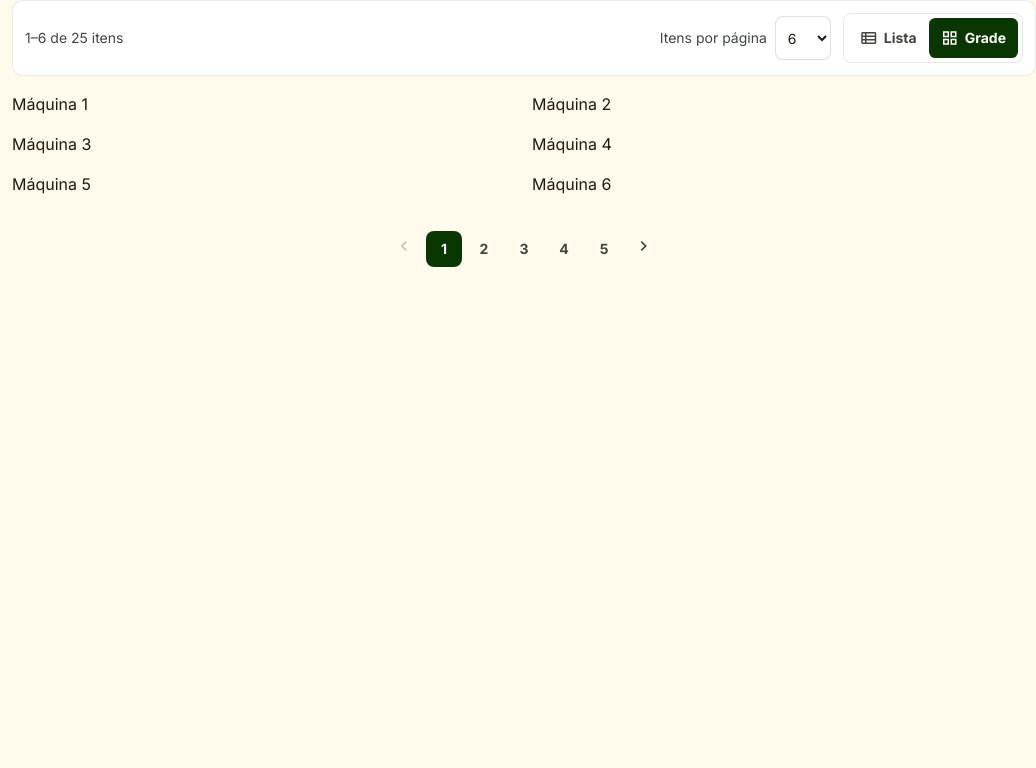
paginates records and resets to the first page when page size changes
Step 1. Click the button named "Próxima página" → click(644, 249), box [626,228,662,270]
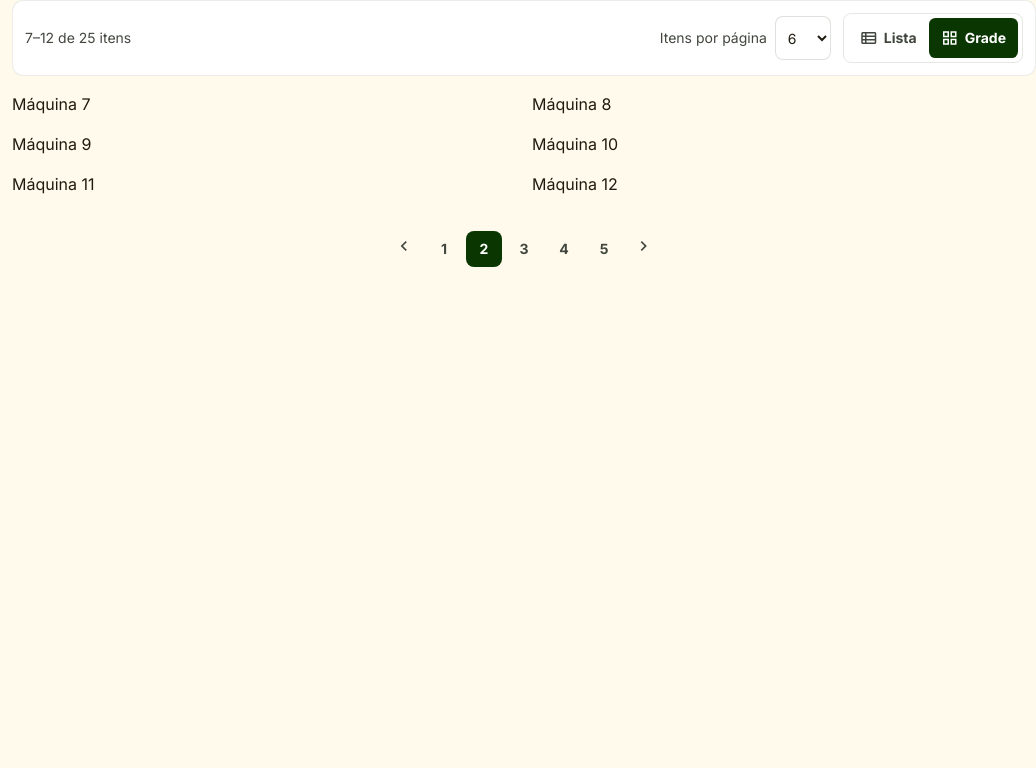
Check: the text "7–12 de 25 itens" is shown, box [25,28,131,48]
Step 2. Select "12" in the dropdown labelled "Itens por página" → (803, 38), box [775,16,831,60]
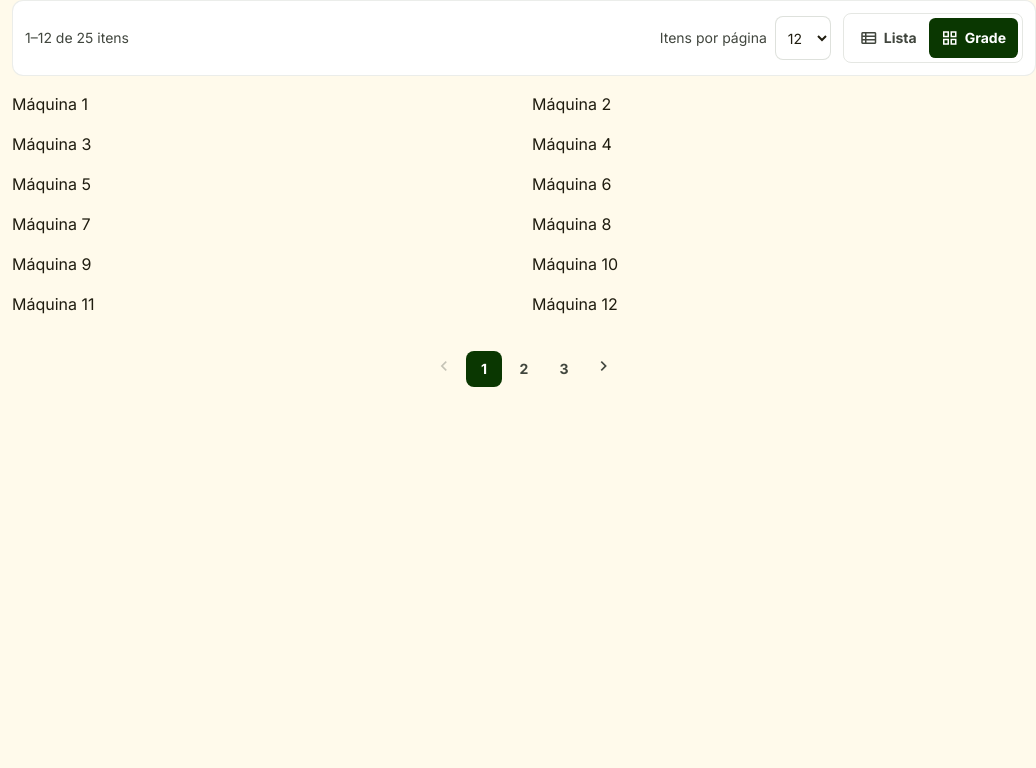
Check: the text "1–12 de 25 itens" is shown, box [25,28,129,48]
Step 3. Select "48" in the dropdown labelled "Itens por página" → (803, 38), box [775,16,831,60]
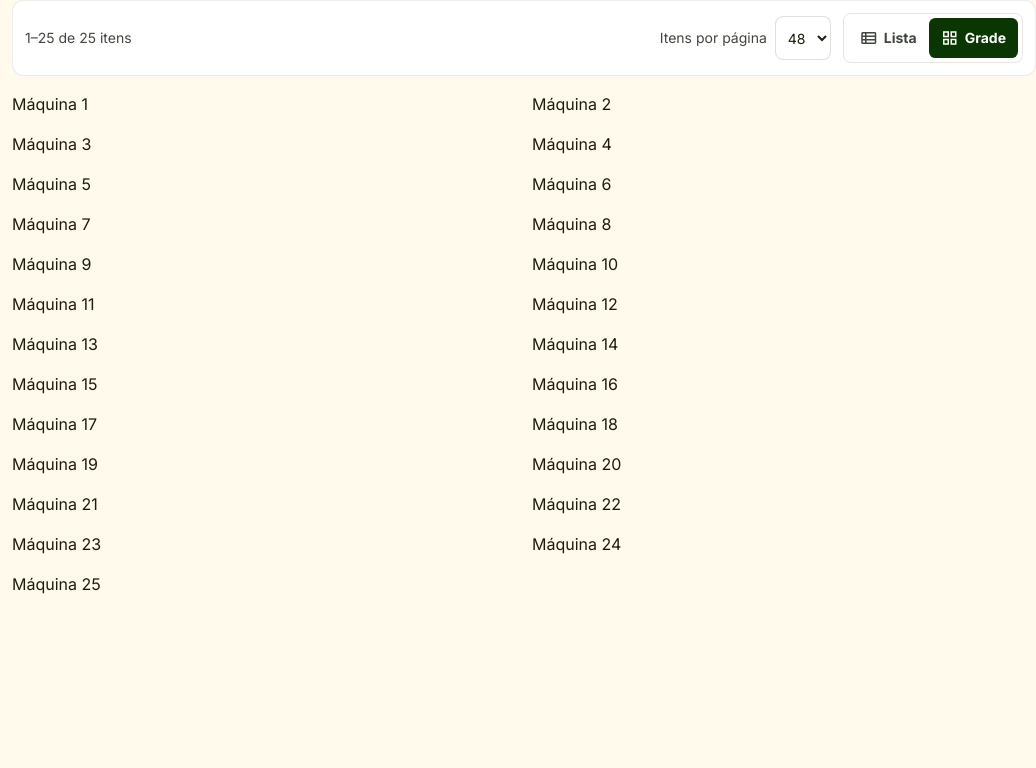
Check: the navigation bar is gone
